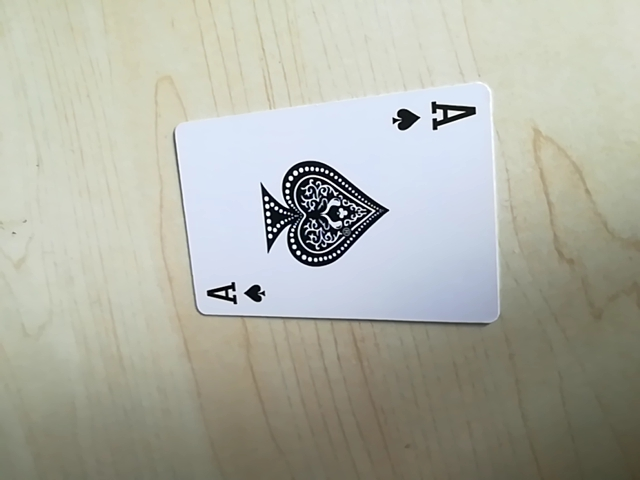ht a: (388, 92, 479, 139), (200, 277, 273, 315)
